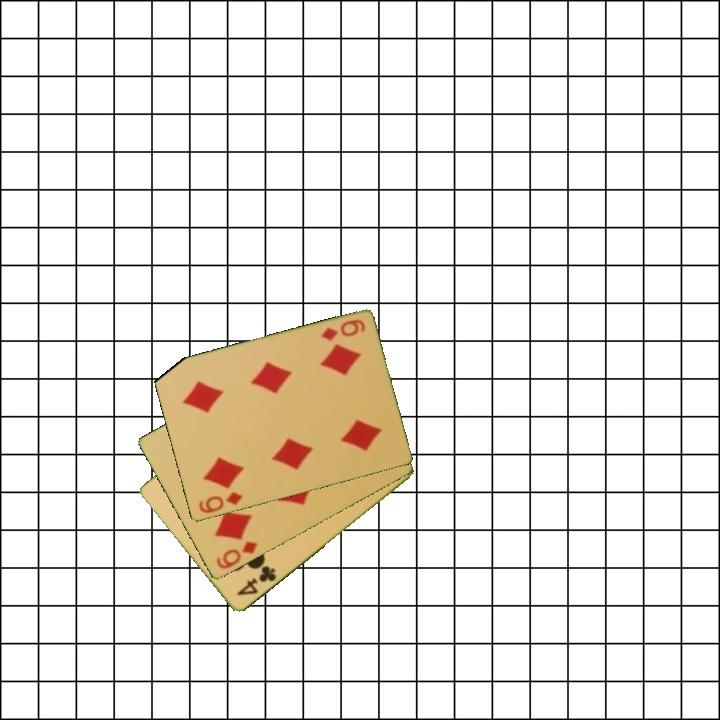4c: (233, 562, 279, 599)
6d: (213, 538, 260, 572), (195, 489, 246, 517), (317, 316, 368, 344)
